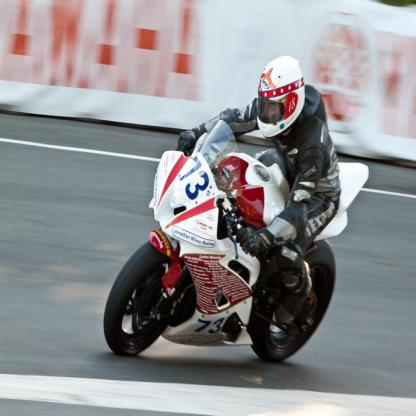Helmet: (258, 58, 308, 134)
